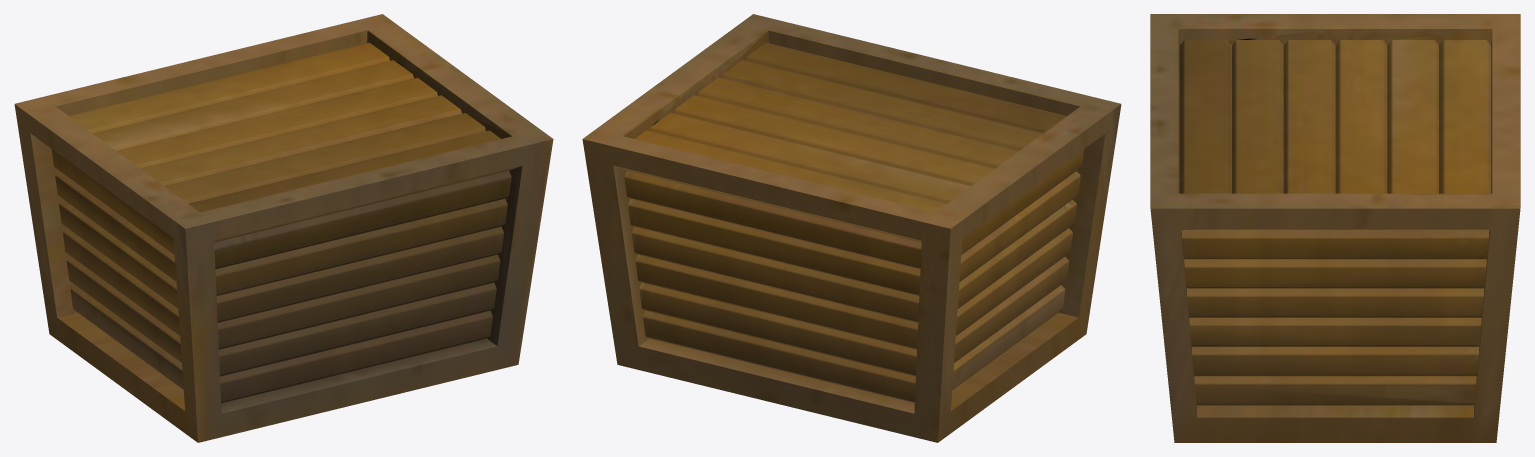
The model's file is wooden-chest.glb.
3 views of the same model, side by side, from view 1: azimuth 30°, elevation 25°; view 2: azimuth 150°, elevation 25°; view 3: azimuth 270°, elevation 25° (orthographic). The views are drawn at different scales.
Parts seen in each view (by area): view 1: body; view 2: body; view 3: body.
Part boxes in pixels (box(x1,y1,x2,y2)): body: box(14, 14, 553, 442); body: box(582, 14, 1121, 442); body: box(1150, 14, 1520, 442).
Bounding box in the file's own units: 0.957 × 0.5663 × 0.769.
Materials: 1 (1 with a texture image).
